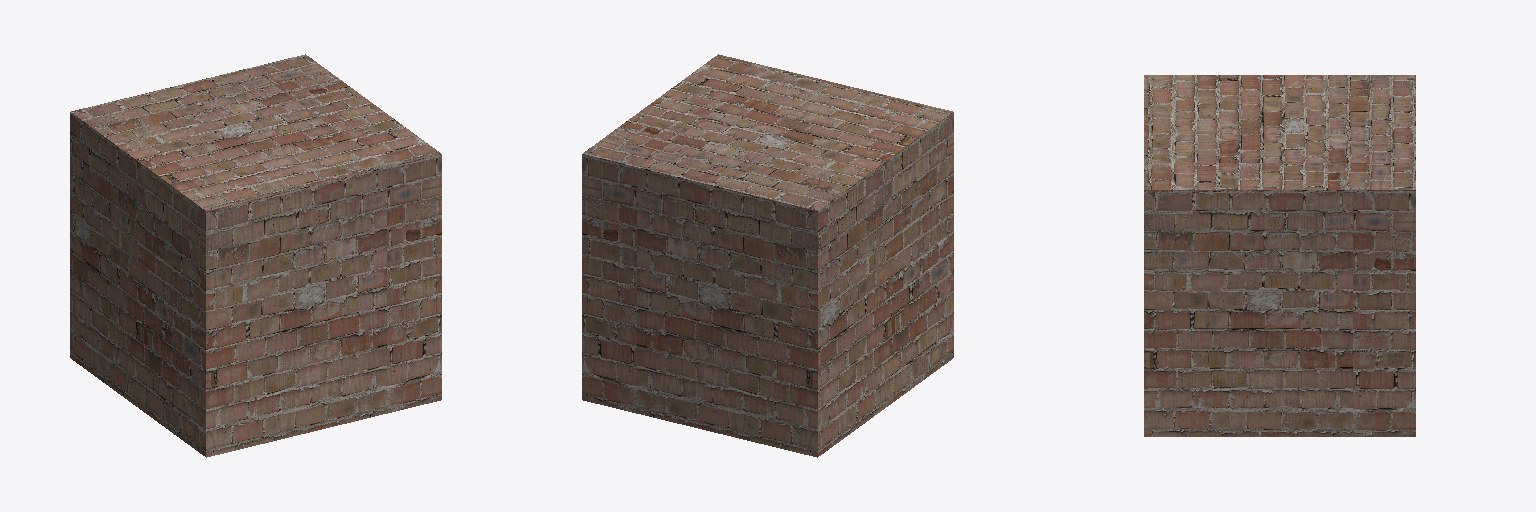
The picture shows the model from 3 angles: view 1: azimuth 30°, elevation 25°; view 2: azimuth 150°, elevation 25°; view 3: azimuth 270°, elevation 25°; orthographic projection.
Parts seen in each view (by area): view 1: brickCube_Cube; view 2: brickCube_Cube; view 3: brickCube_Cube.
Boxes of the visible parts, box(x1,y1,x2,y2) form: brickCube_Cube: box(70, 54, 441, 457); brickCube_Cube: box(582, 54, 953, 457); brickCube_Cube: box(1144, 75, 1415, 436).
Size of the model in its own units: 1 by 1 by 1.
Materials: 1 (1 with a texture image).